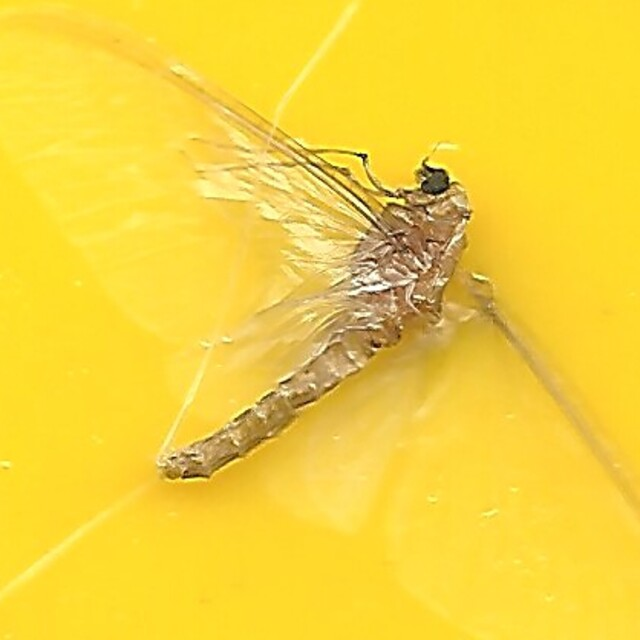Ephemeroptera: (153, 155, 487, 485)
